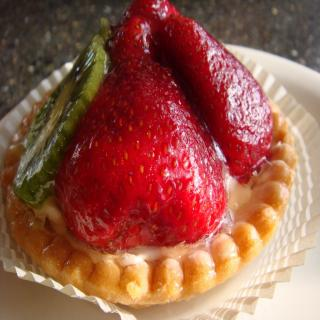Strawberry: (54, 62, 230, 253), (153, 14, 274, 184), (108, 12, 160, 66), (120, 0, 180, 37)
